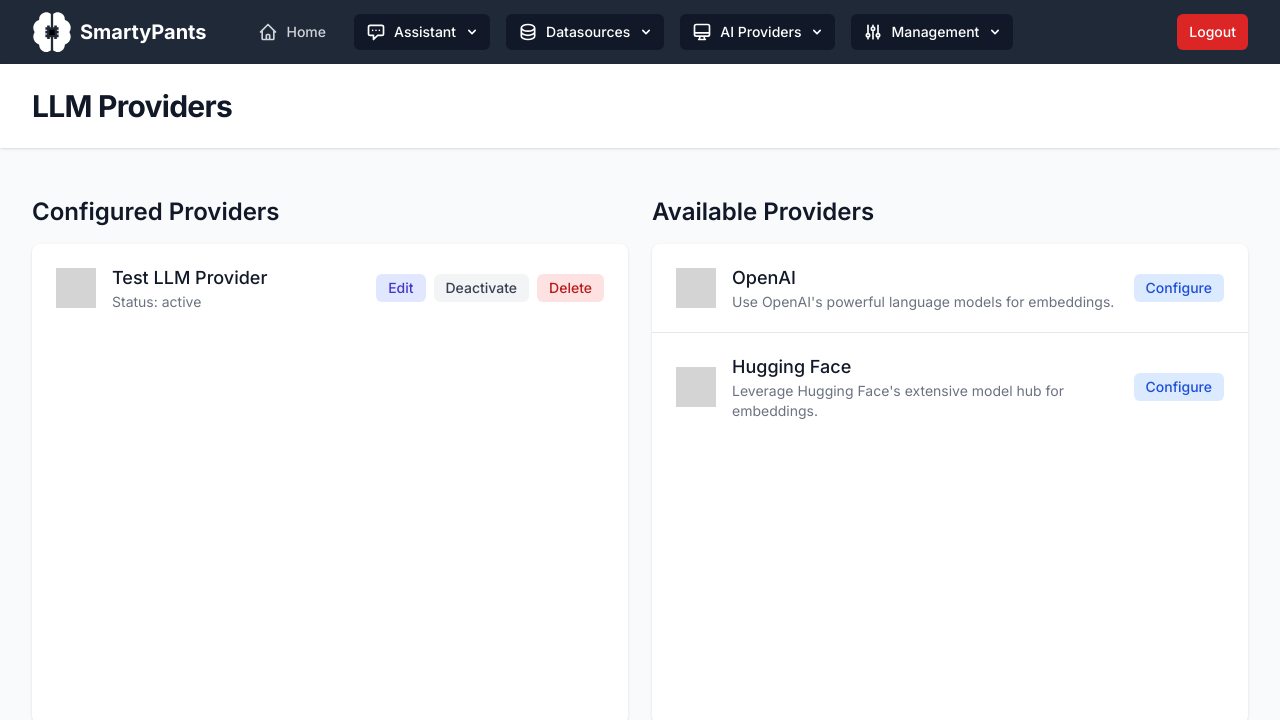
Test: LLMProvidersPage › handles API error on delete
Expected: the heading "Test LLM Provider" is shown, [112, 264, 267, 292]
Click the button "Delete" at (571, 288), box [537, 274, 604, 302]
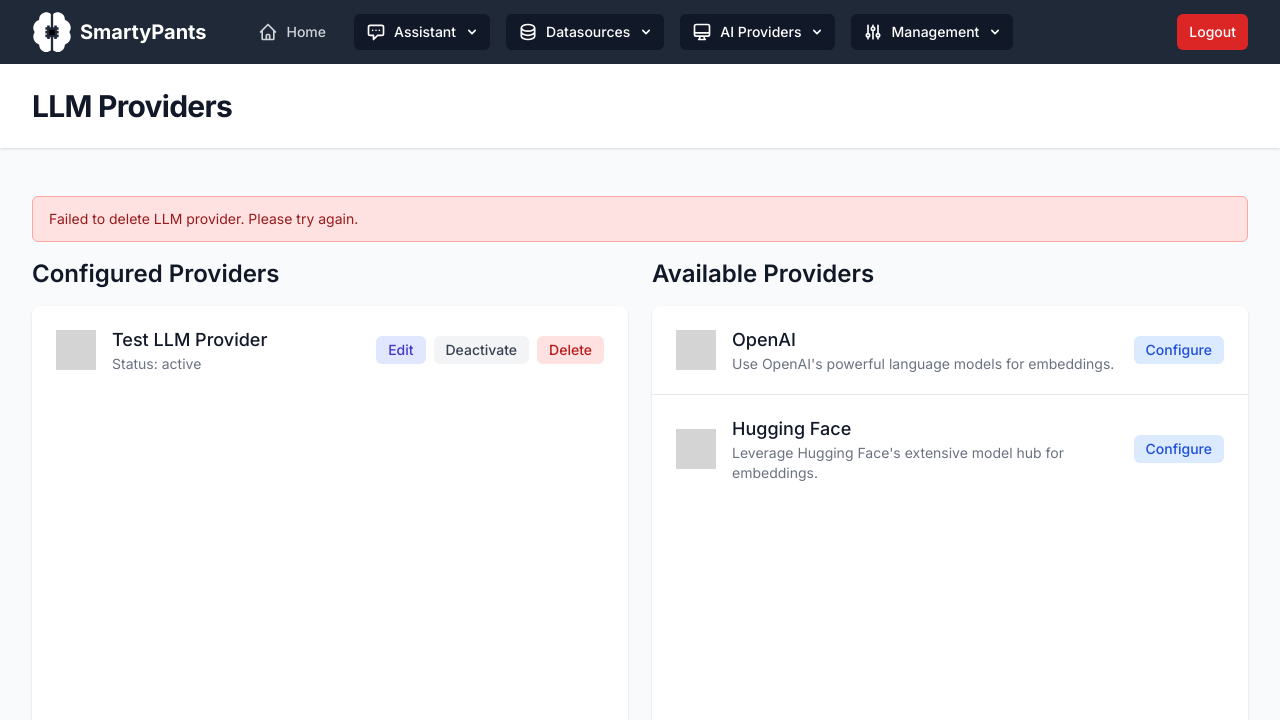
Now the text "Failed to delete LLM provider. Please try again." is shown, box [49, 210, 358, 227]
